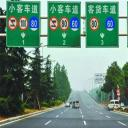speed_limit_100: (18, 15, 30, 31)
speed_limit_80: (88, 15, 100, 33), (60, 14, 70, 32)
